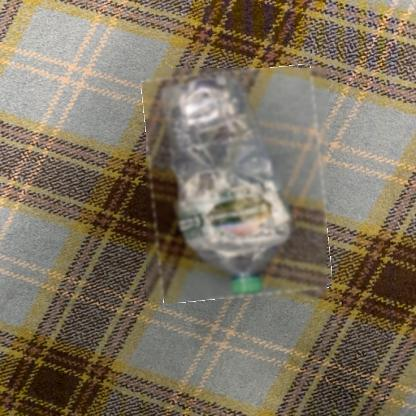plastic-bottles: (147, 70, 329, 302)
